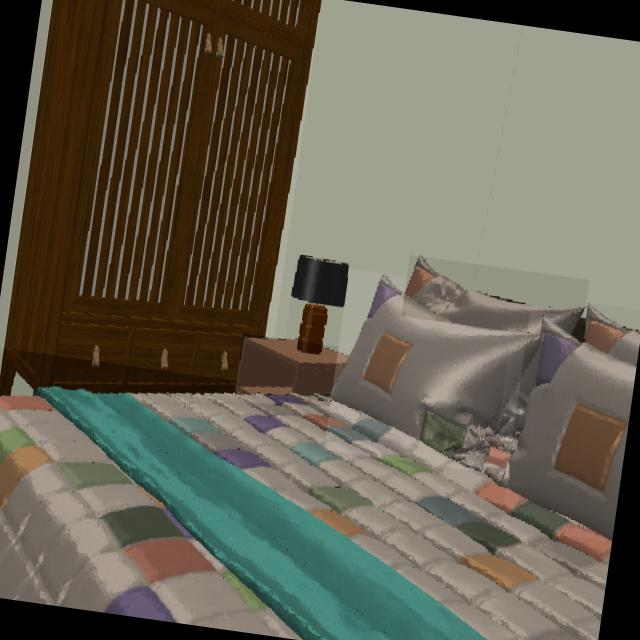bed: (0, 387, 612, 640)
lamp: (291, 255, 350, 355)
nighttable: (235, 338, 348, 396)
pillow: (331, 274, 542, 471), (509, 314, 637, 542), (404, 256, 585, 336), (497, 352, 540, 444), (584, 304, 640, 366)
